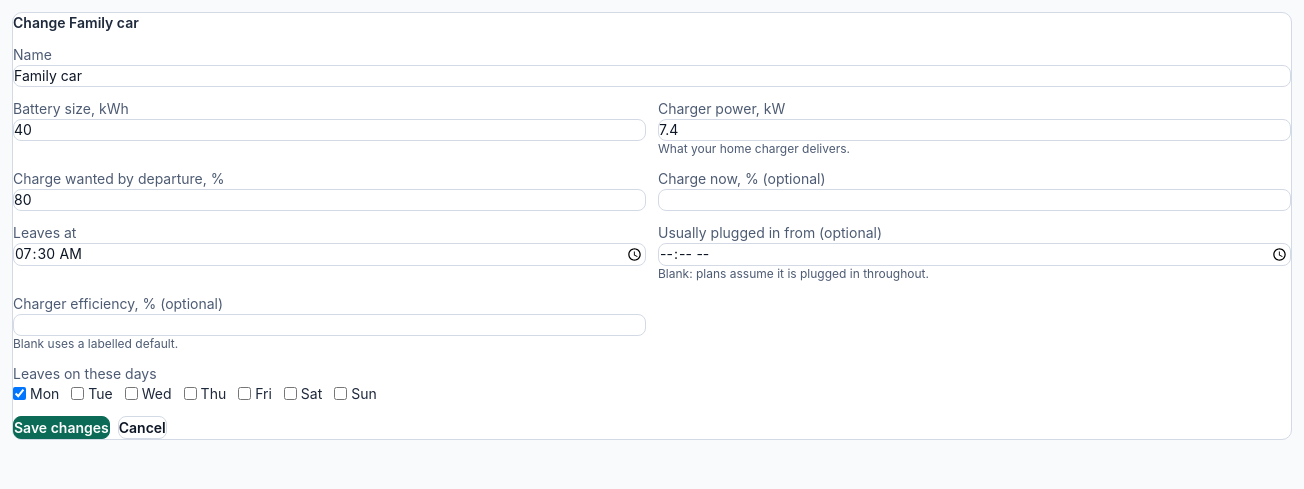
Test: EvForm › shows the server's refusal when no day is chosen
Click the checkbox labelled "Mon" at (20, 394), box top-left (13, 387), bottom-right (26, 400)
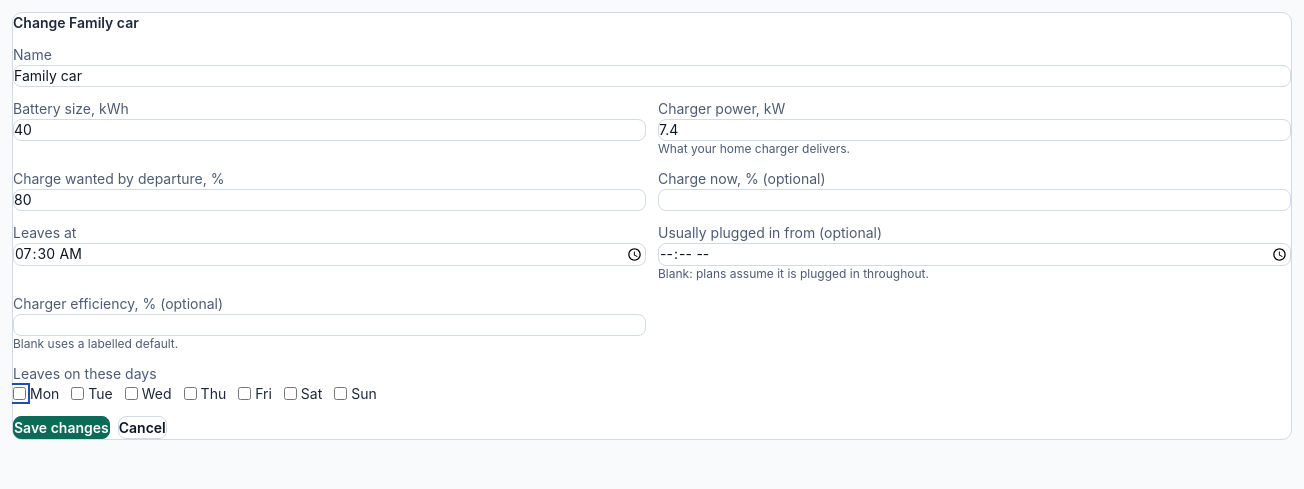
Click the button "Save changes" at (61, 428), box top-left (13, 416), bottom-right (110, 439)
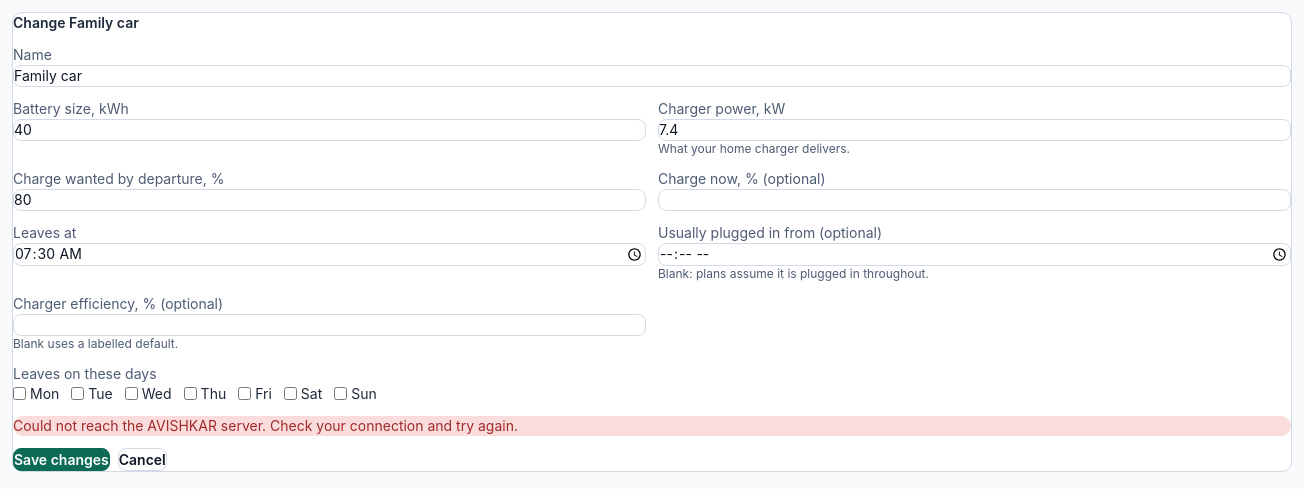
Expected: the message "Could not reach the AVISHKAR server. Check your connection and try again." is shown, top-left (13, 416), bottom-right (1291, 436)
